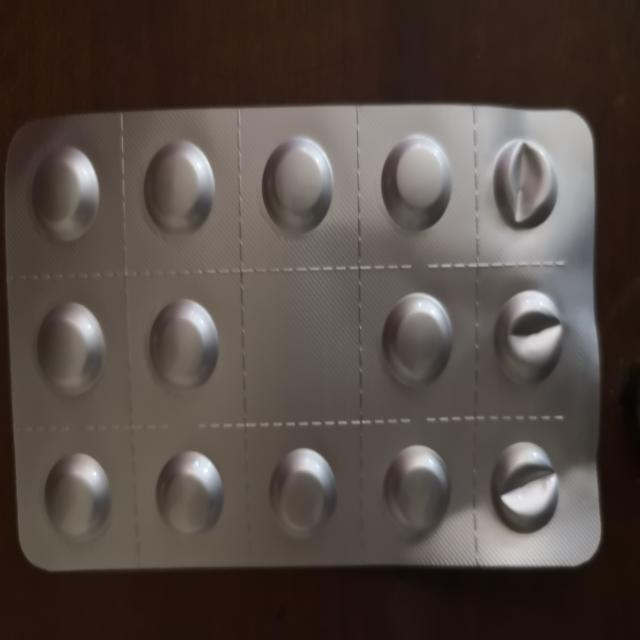Empty: (490, 288, 570, 393), (487, 438, 565, 538), (487, 129, 562, 232)
Pill: (257, 127, 339, 239), (376, 130, 460, 237), (28, 138, 104, 252), (138, 132, 218, 239), (376, 290, 456, 390), (149, 441, 229, 541), (32, 296, 112, 396), (266, 444, 344, 544), (379, 440, 454, 543), (145, 296, 223, 394), (38, 446, 114, 544)
